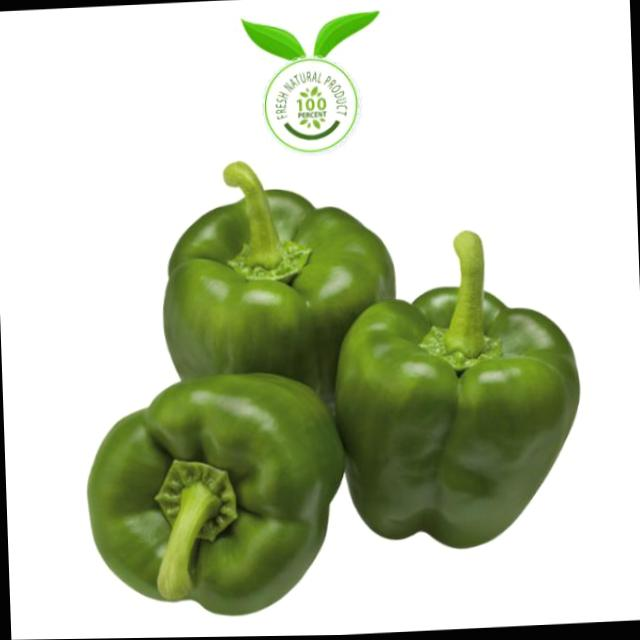Capsicum: (334, 223, 586, 555), (82, 364, 350, 623), (156, 154, 398, 425)
